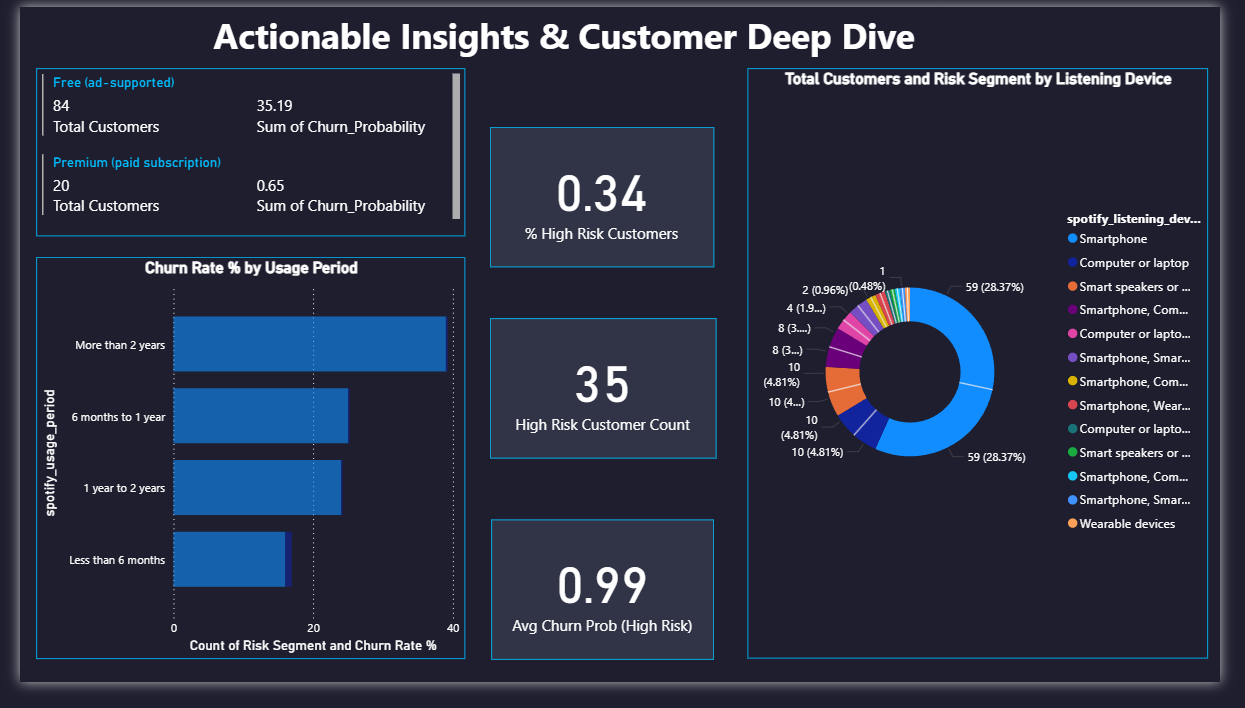

Layout of this report page (visuals, bound fields, positions):
{"tool":"powerbi","page":{"name":"Insights","canvas":[1280,720],"ordinal":3},"visuals":[{"type":"textbox","box":[176.7,0,806.1,72.4],"z":0},{"type":"card","fields":{"Values":["spotify_churn_predictions.High Risk Customer Count"]},"box":[501.3,332.1,241.3,149.3],"z":1000},{"type":"card","fields":{"Values":["spotify_churn_predictions.Avg Churn Prob (High Risk)"]},"box":[502.6,546.1,237.6,149.3],"z":2000},{"type":"card","fields":{"Values":["spotify_churn_predictions.% High Risk Customers"]},"box":[501.3,128.1,238.8,149.3],"z":3000},{"type":"barChart","title":"Churn Rate % by Usage Period","fields":{"Category":["spotify_churn_predictions.spotify_usage_period"],"Y":["CountNonNull(spotify_churn_predictions.Risk Segment)","spotify_churn_predictions.Churn Rate %"]},"box":[17.4,266.2,457.8,429.2],"z":4000},{"type":"donutChart","title":"Total Customers and Risk Segment by Listening Device","fields":{"Y":["spotify_churn_predictions.Total Customers","CountNonNull(spotify_churn_predictions.Risk Segment)"],"Category":["spotify_churn_predictions.spotify_listening_device"]},"box":[776.2,65.9,491.4,629.4],"z":5000},{"type":"multiRowCard","fields":{"Values":["spotify_churn_predictions.Total Customers","Sum(spotify_churn_predictions.Churn_Probability)","spotify_churn_predictions.spotify_subscription_plan"]},"box":[17.4,65.9,457.8,179.1],"z":6000}]}

Visuals, with their boxes in screenshot pixels (x1, y1, x2, y2), scaled from the page's 1280x720 canvas onto the 1245x708 screenshot:
textbox: x1=172, y1=0, x2=956, y2=71
card - spotify_churn_predictions.High Risk Customer Count: x1=488, y1=327, x2=722, y2=473
card - spotify_churn_predictions.Avg Churn Prob (High Risk): x1=489, y1=537, x2=720, y2=684
card - spotify_churn_predictions.% High Risk Customers: x1=488, y1=126, x2=720, y2=273
"Churn Rate % by Usage Period" barChart: x1=17, y1=262, x2=462, y2=684
"Total Customers and Risk Segment by Listening Device" donutChart: x1=755, y1=65, x2=1233, y2=684
multiRowCard - spotify_churn_predictions.Total Customers x Sum(spotify_churn_predictions.Churn_Probability): x1=17, y1=65, x2=462, y2=241
